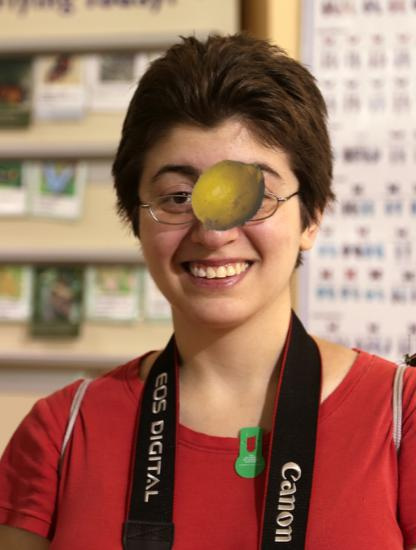Lemon: (188, 153, 272, 237)
